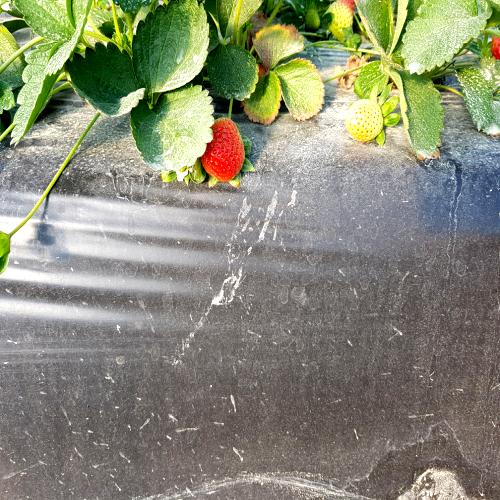ripe: (200, 118, 250, 185)
